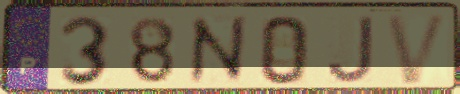0: (256, 13, 312, 87)
3: (58, 14, 114, 88)
8: (127, 15, 178, 85)
J: (325, 14, 376, 86)
N: (188, 13, 249, 88)
V: (382, 11, 452, 87)
